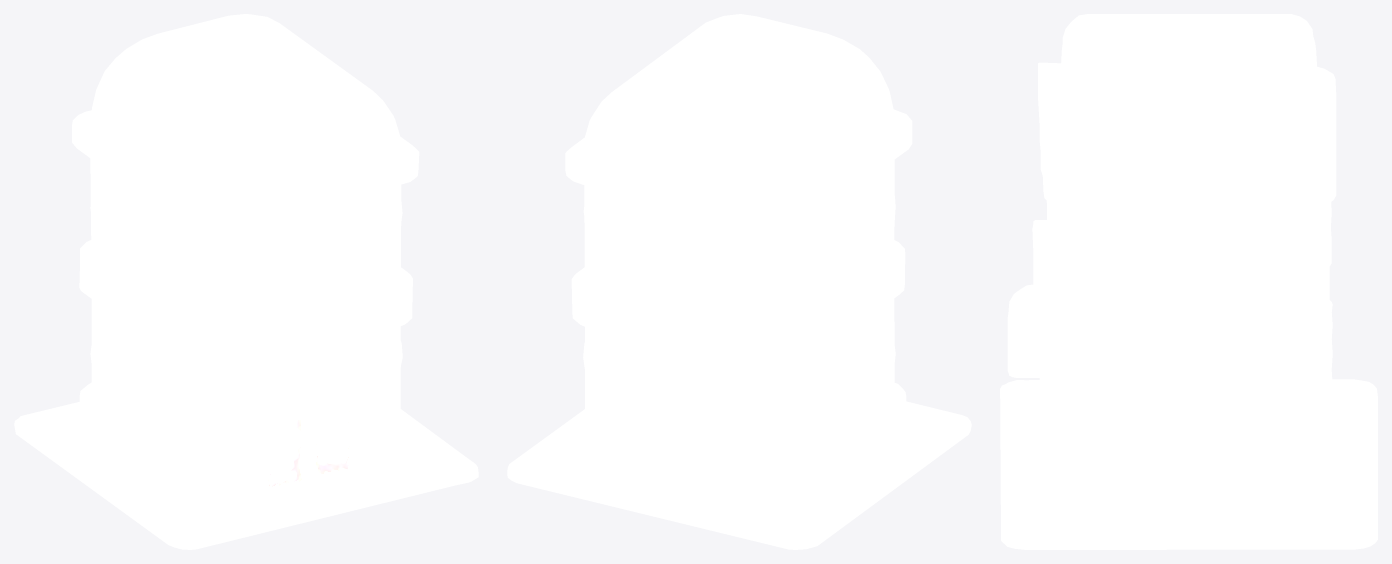
File: centro-cura.glb
The picture shows the model from 3 angles, left to right: view 1: azimuth 30°, elevation 25°; view 2: azimuth 150°, elevation 25°; view 3: azimuth 270°, elevation 25°; orthographic projection. The views are drawn at different scales.
Parts seen in each view (by area): view 1: mesh_node; view 2: mesh_node; view 3: mesh_node.
Part boxes in pixels (x1=…): mesh_node: x1=14, y1=14, x2=478, y2=549; mesh_node: x1=507, y1=14, x2=971, y2=549; mesh_node: x1=1000, y1=14, x2=1377, y2=549.
Size of the model in its own units: 0.8203 by 1 by 0.8008.
1 material, 1 textured.
